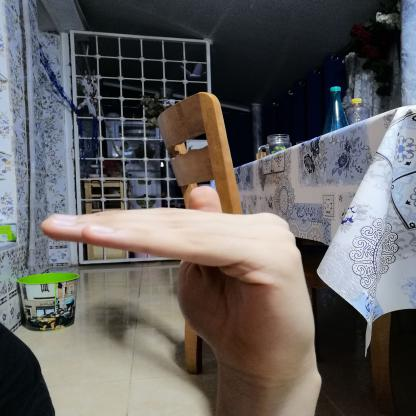KHAA: (23, 179, 334, 376)
